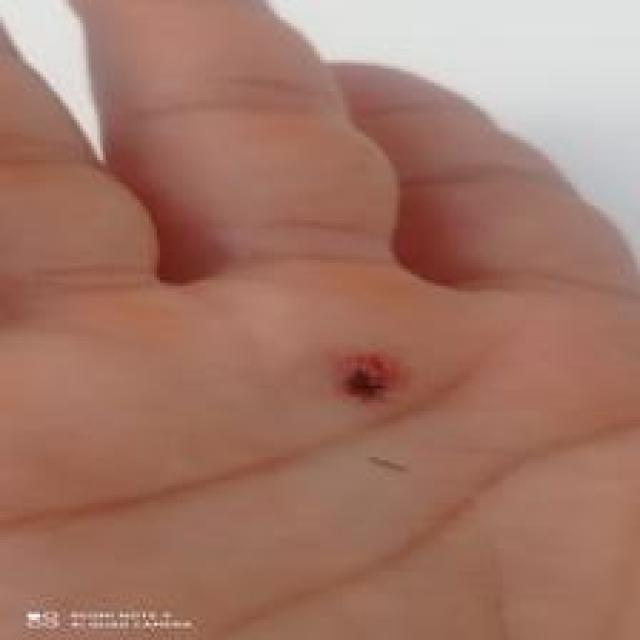Aedes albopictus: (338, 351, 396, 403)
